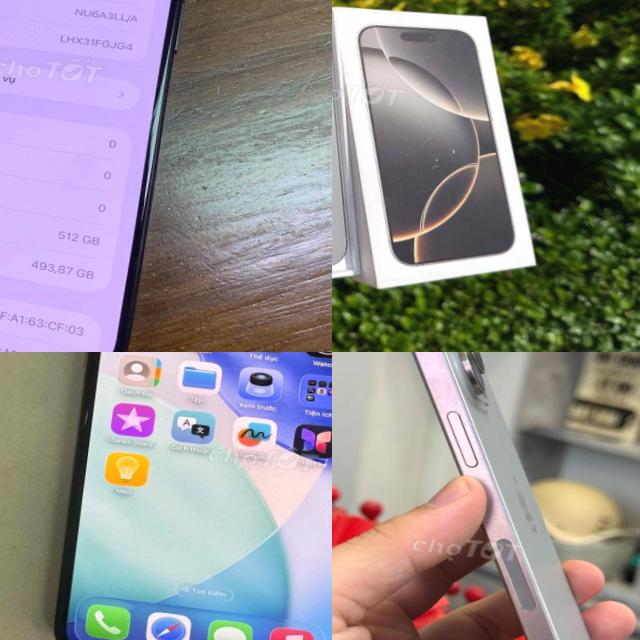gen_11: (42, 352, 332, 640)
gen_15: (332, 352, 640, 640), (0, 0, 208, 352)
